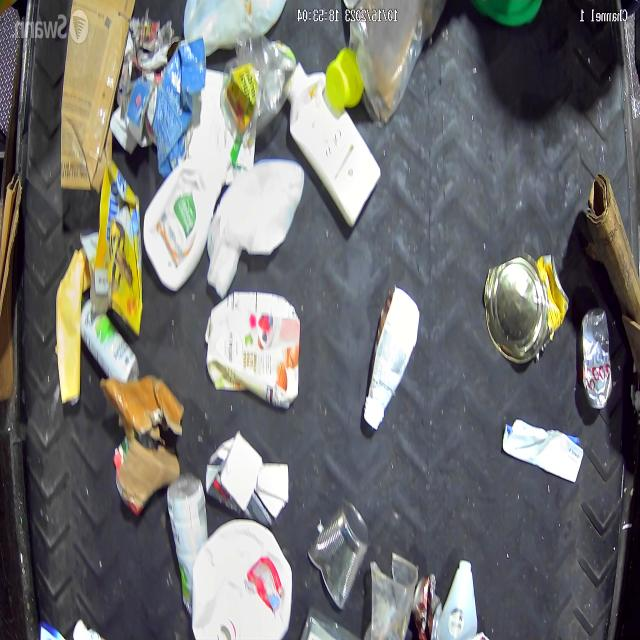can: (483, 254, 569, 364), (306, 503, 368, 609), (412, 576, 442, 640)
milk_jug: (206, 162, 304, 298), (143, 146, 233, 292), (190, 517, 292, 640), (184, 0, 286, 47)
plastic_bottle: (582, 308, 612, 411)
